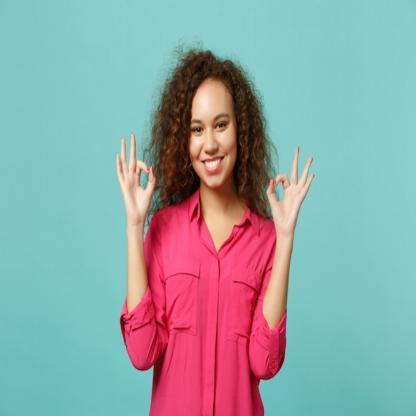ok: (261, 141, 317, 238), (112, 128, 159, 230)
